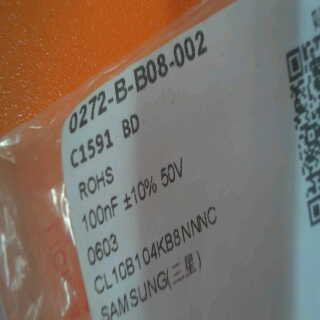100nF: (75, 190, 122, 230)
